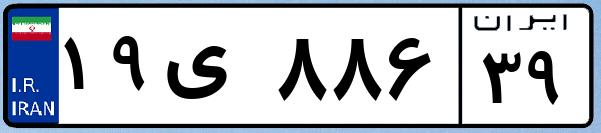1: (57, 26, 110, 100)
3: (475, 38, 525, 113)
6: (385, 28, 445, 110)
8: (270, 28, 330, 110), (330, 28, 385, 110)
9: (525, 38, 570, 115), (110, 28, 158, 98)
ی: (158, 20, 270, 120)
